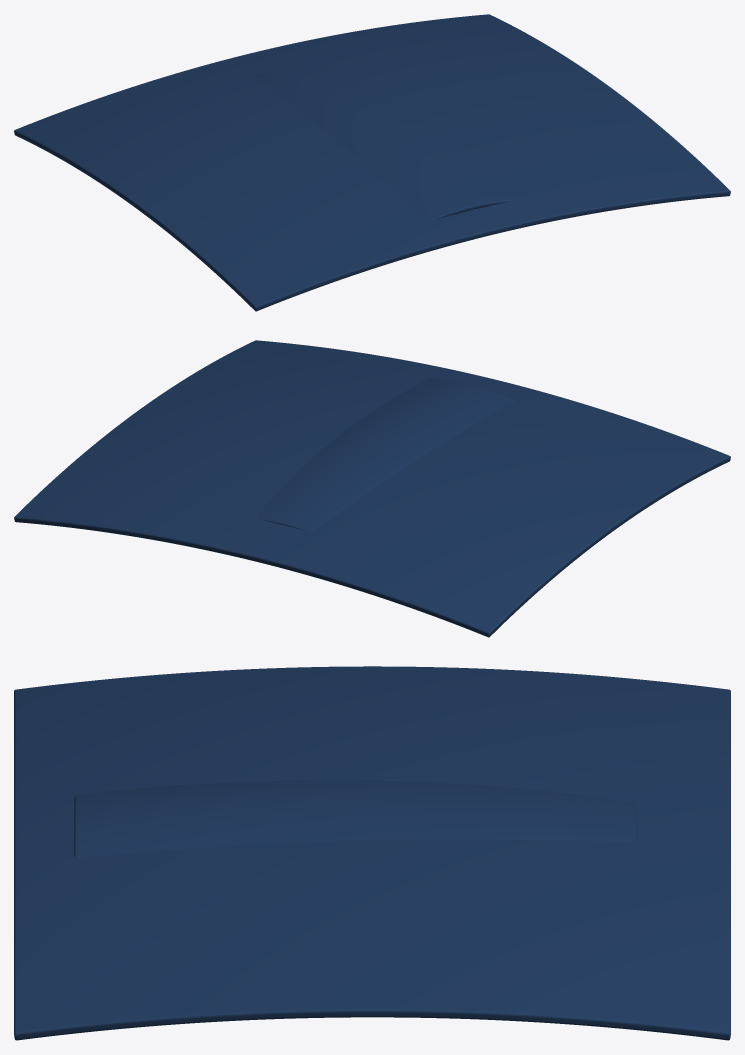
Rendered from hood.glb.
3 views of the same model, one above another, from view 1: azimuth 30°, elevation 25°; view 2: azimuth 150°, elevation 25°; view 3: azimuth 270°, elevation 25° (orthographic). The views are drawn at different scales.
Parts seen in each view (by area): view 1: BODY_HOOD_OUTER, HOOD_POWER_BULGE; view 2: BODY_HOOD_OUTER, HOOD_POWER_BULGE; view 3: BODY_HOOD_OUTER, HOOD_POWER_BULGE.
Boxes of the visible parts, left/top/right/bottom form: BODY_HOOD_OUTER: left=14, top=14, right=730, bottom=311; HOOD_POWER_BULGE: left=256, top=63, right=516, bottom=220; BODY_HOOD_OUTER: left=14, top=340, right=730, bottom=637; HOOD_POWER_BULGE: left=256, top=379, right=515, bottom=531; BODY_HOOD_OUTER: left=14, top=666, right=730, bottom=1040; HOOD_POWER_BULGE: left=74, top=780, right=636, bottom=858.
Bounding box in the file's own units: 1.42 × 0.158 × 1.25.
